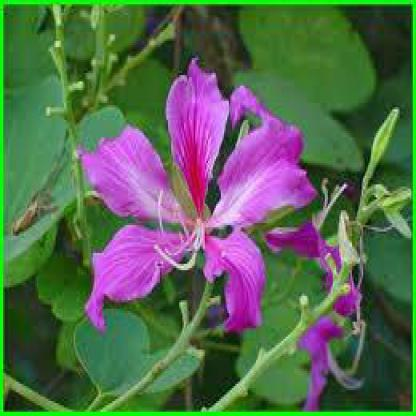Kenanga: (299, 39, 372, 112)
